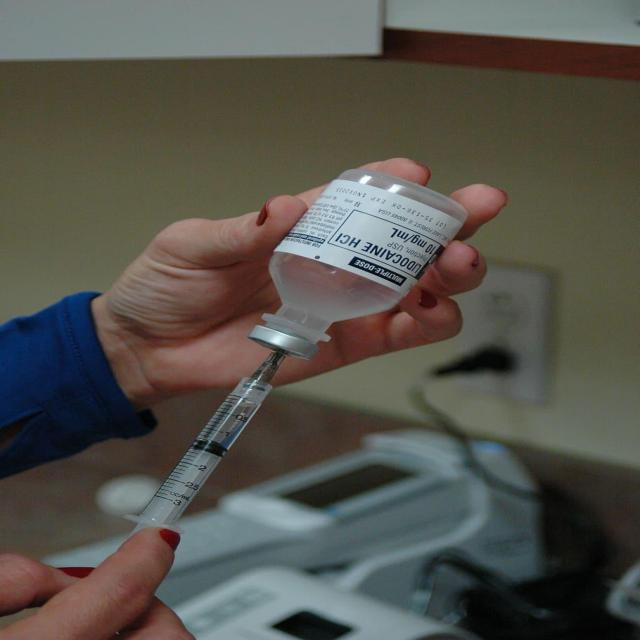B3: (242, 163, 468, 361), (104, 350, 292, 570)
